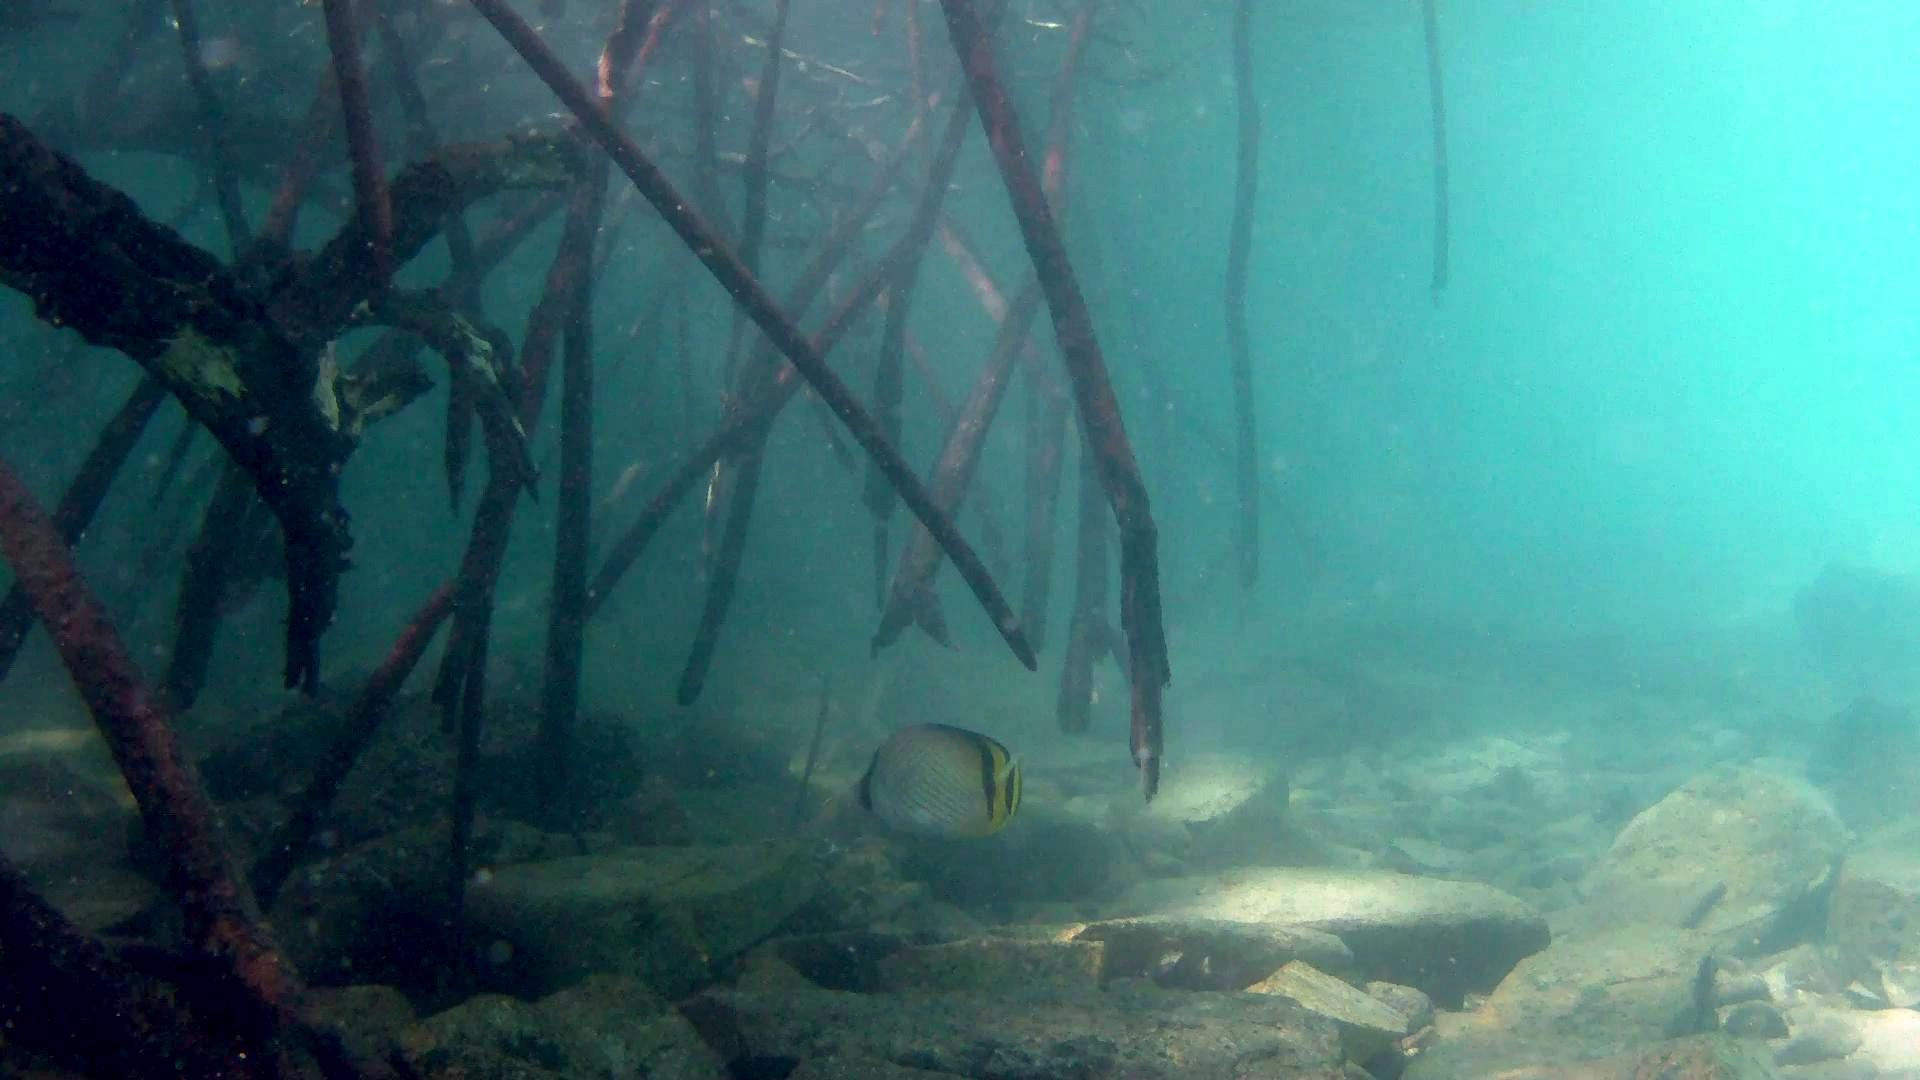chaetodon vagabundus: (834, 716, 1028, 842)
